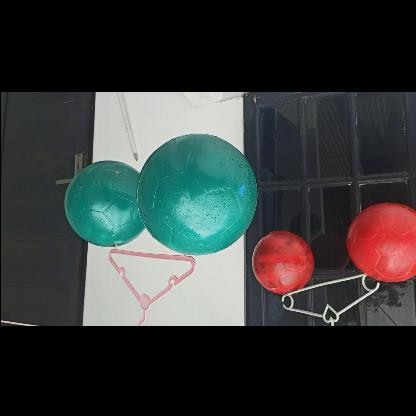red_ball: (348, 202, 415, 282), (250, 230, 312, 292)
